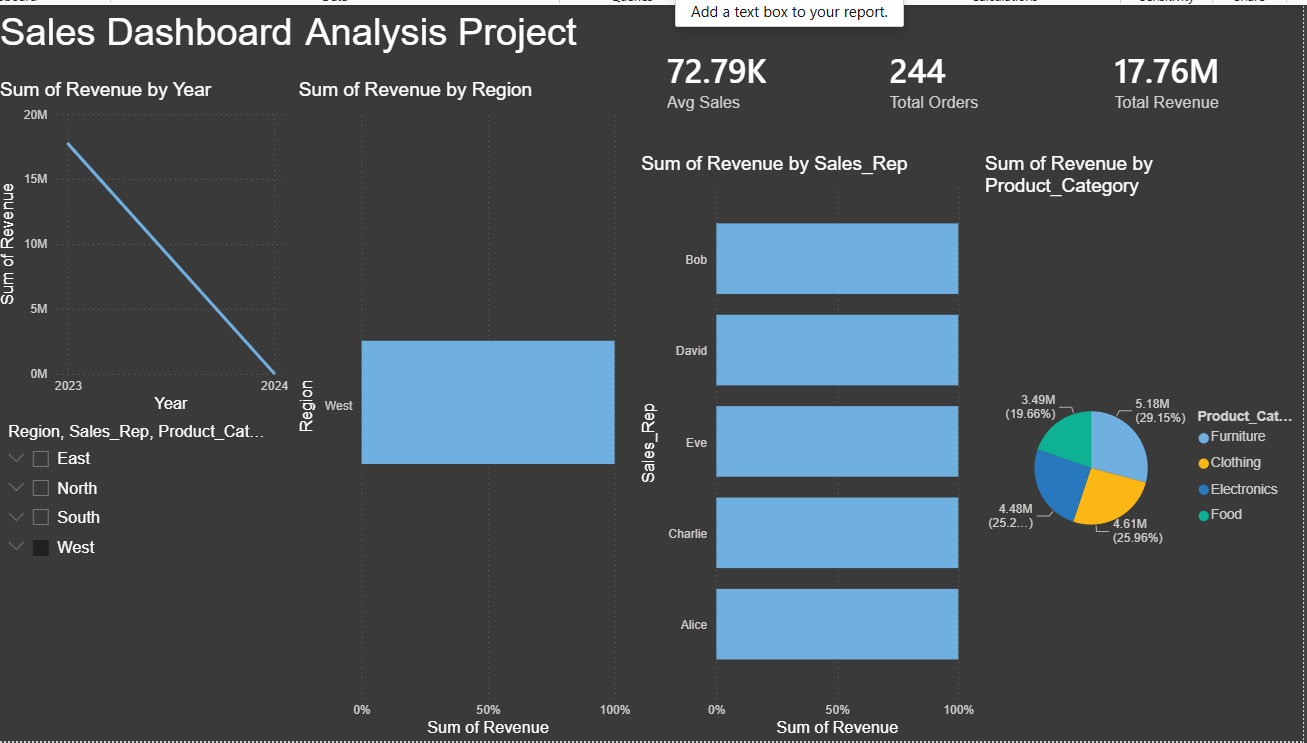

The page's visual inventory and layout, read from the dashboard file:
{"tool":"powerbi","page":{"name":"Page 1","canvas":[1280,720],"ordinal":0},"visuals":[{"type":"lineChart","fields":{"Category":["final_data_for_powerbi.Sale_Date.Variation.Date Hierarchy.Year","final_data_for_powerbi.Sale_Date.Variation.Date Hierarchy.Quarter","final_data_for_powerbi.Sale_Date.Variation.Date Hierarchy.Month","final_data_for_powerbi.Sale_Date.Variation.Date Hierarchy.Day"],"Y":["Sum(final_data_for_powerbi.Revenue)"]},"box":[0,72.1,292.3,331.4],"z":0},{"type":"hundredPercentStackedBarChart","fields":{"Category":["final_data_for_powerbi.Region"],"Y":["Sum(final_data_for_powerbi.Revenue)"]},"box":[292.3,72.1,335.1,648.1],"z":1000},{"type":"hundredPercentStackedBarChart","fields":{"Category":["final_data_for_powerbi.Sales_Rep"],"Y":["Sum(final_data_for_powerbi.Revenue)"]},"box":[627.3,144.3,336.3,576],"z":2000},{"type":"pieChart","fields":{"Category":["final_data_for_powerbi.Product_Category"],"Y":["Sum(final_data_for_powerbi.Revenue)"]},"box":[963.6,144.3,316.7,576],"z":3000},{"type":"slicer","fields":{"Values":["final_data_for_powerbi.Region","final_data_for_powerbi.Sales_Rep","final_data_for_powerbi.Product_Category"]},"box":[0,403.5,292.3,316.7],"z":4000},{"type":"cardVisual","fields":{"Data":["final_data_for_powerbi.Total Revenue"]},"box":[1065.1,0,215.2,144.3],"z":4003},{"type":"cardVisual","fields":{"Data":["final_data_for_powerbi.Total Orders"]},"box":[845,0,220.1,144.3],"z":4004},{"type":"cardVisual","fields":{"Data":["final_data_for_powerbi.Avg Sales"]},"box":[627.3,0,226.2,144.3],"z":4005},{"type":"textbox","box":[0,0,627.3,72.1],"z":4006}]}

Visuals, with their boxes on the page's 1280x720 design canvas (x1, y1, x2, y2). These are canvas units, not pixel positions in the 1307x743 screenshot, which may show the page scaled, cropped or inside an application window:
lineChart - final_data_for_powerbi.Sale_Date.Variation.Date Hierarchy.Year x final_data_for_powerbi.Sale_Date.Variation.Date Hierarchy.Quarter: <bbox>0, 72, 292, 404</bbox>
hundredPercentStackedBarChart - final_data_for_powerbi.Region x Sum(final_data_for_powerbi.Revenue): <bbox>292, 72, 627, 720</bbox>
hundredPercentStackedBarChart - final_data_for_powerbi.Sales_Rep x Sum(final_data_for_powerbi.Revenue): <bbox>627, 144, 964, 720</bbox>
pieChart - final_data_for_powerbi.Product_Category x Sum(final_data_for_powerbi.Revenue): <bbox>964, 144, 1280, 720</bbox>
slicer - final_data_for_powerbi.Region x final_data_for_powerbi.Sales_Rep: <bbox>0, 404, 292, 720</bbox>
cardVisual - final_data_for_powerbi.Total Revenue: <bbox>1065, 0, 1280, 144</bbox>
cardVisual - final_data_for_powerbi.Total Orders: <bbox>845, 0, 1065, 144</bbox>
cardVisual - final_data_for_powerbi.Avg Sales: <bbox>627, 0, 854, 144</bbox>
textbox: <bbox>0, 0, 627, 72</bbox>
